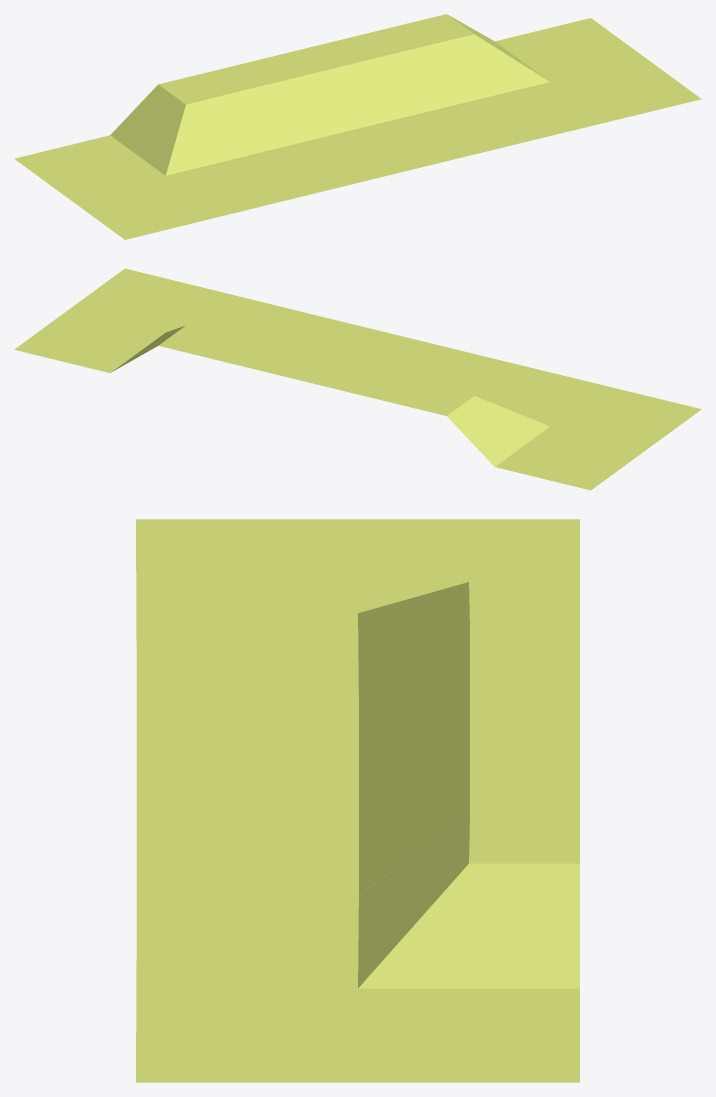
The model's file is Museum_Ceil_Window_border.fbx.
3 views of the same model, one above another, from view 1: azimuth 30°, elevation 25°; view 2: azimuth 150°, elevation 25°; view 3: azimuth 270°, elevation 25° (orthographic). The views are drawn at different scales.
Parts seen in each view (by area): view 1: Archi_Annexes_Plafond_Glass.001; view 2: Archi_Annexes_Plafond_Glass.001; view 3: Archi_Annexes_Plafond_Glass.001.
Boxes of the visible parts, x1,y1,x2,y2 form: Archi_Annexes_Plafond_Glass.001: (14,14,701,239); Archi_Annexes_Plafond_Glass.001: (14,268,701,490); Archi_Annexes_Plafond_Glass.001: (136,519,579,1082).
Bounding box in the file's own units: 1773 × 115 × 591.
